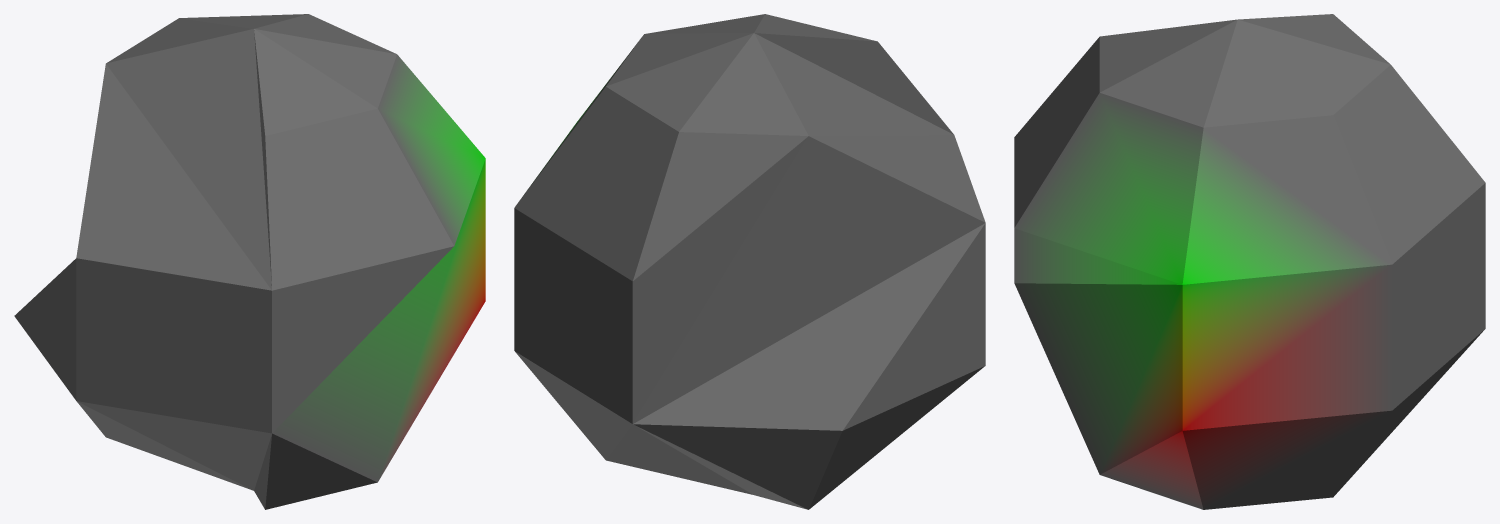
Rendered from re_decimating_conquest_6_before.obj.
The picture shows the model from 3 angles, left to right: view 1: azimuth 30°, elevation 25°; view 2: azimuth 150°, elevation 25°; view 3: azimuth 270°, elevation 25°; orthographic projection. The views are drawn at different scales.
Bounding box in the file's own units: 1.85 × 2 × 1.81.
